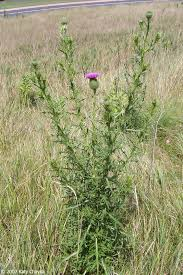bull thistle: (84, 71, 101, 91)
